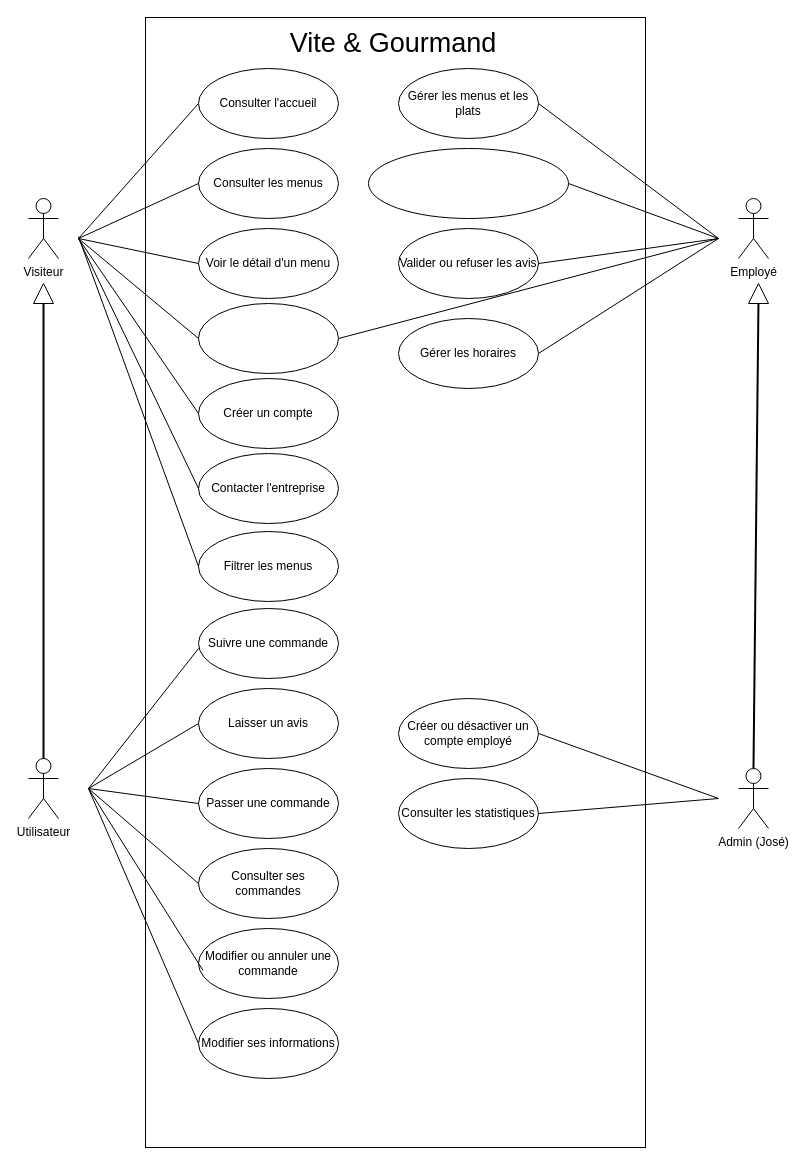
This 806x1165 diagram has some shape labels left out. The centre of each missing label's shape, as x and y in pixels:
"Gérer les commandes (filtrer, changer le statut, modifier ou annuler avec motif)" belongs at (468,183).
"Se connecter" belongs at (268,338).
